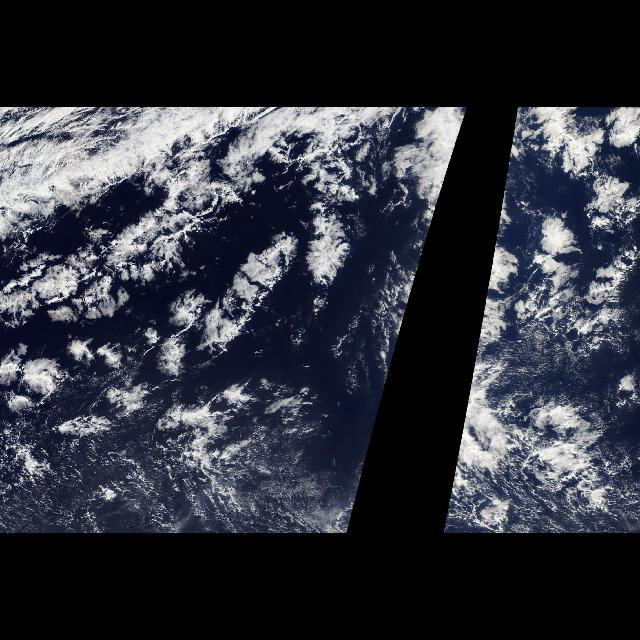Flower: (0, 196, 356, 494)
